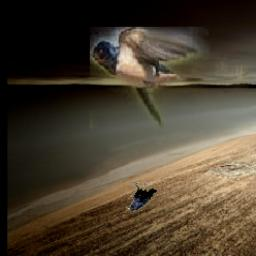Crow: (126, 182, 157, 210)
Swallow: (90, 28, 249, 130)
